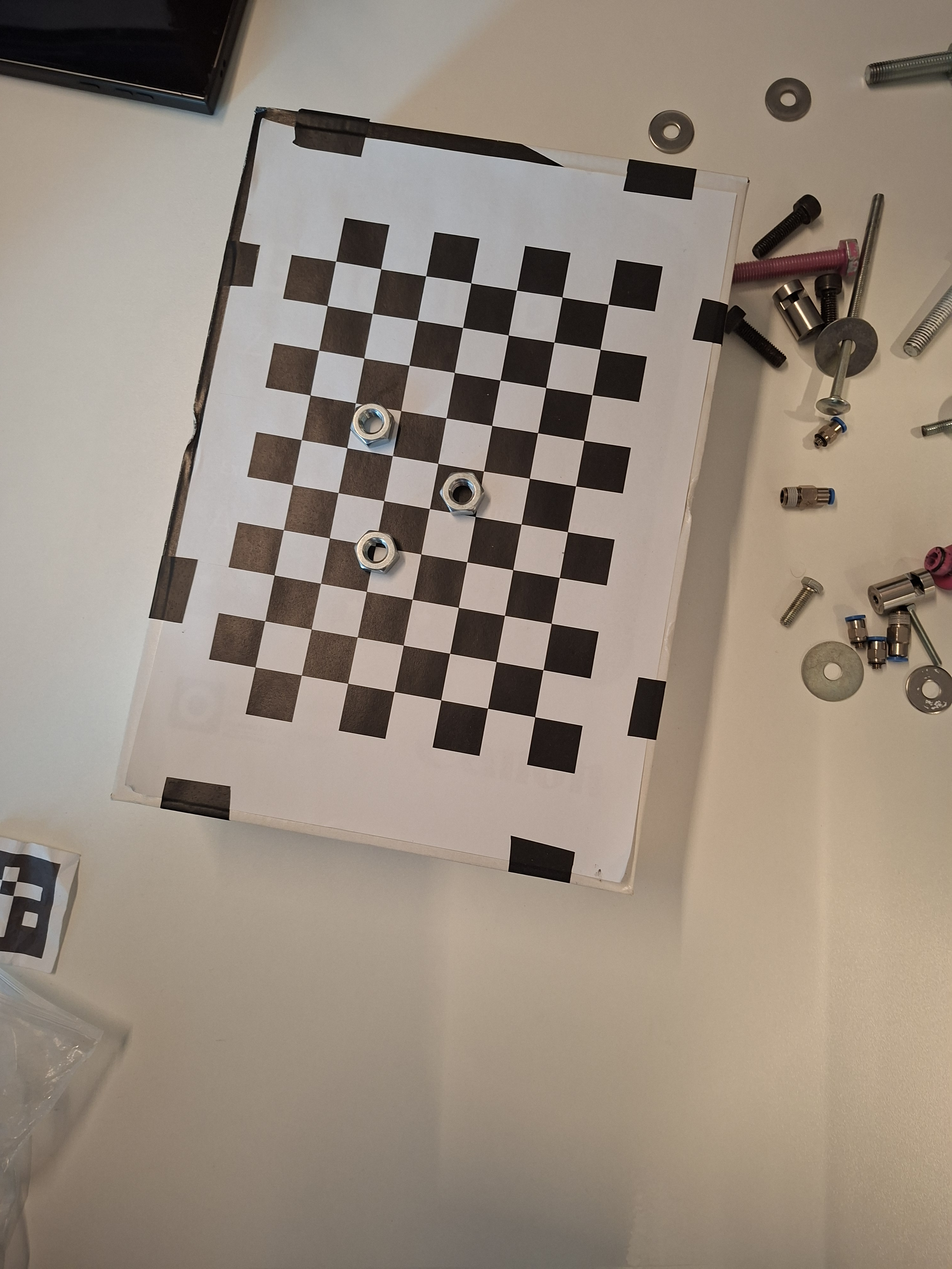hex_nut: (341, 396, 401, 456), (436, 466, 492, 522), (349, 526, 406, 579)
